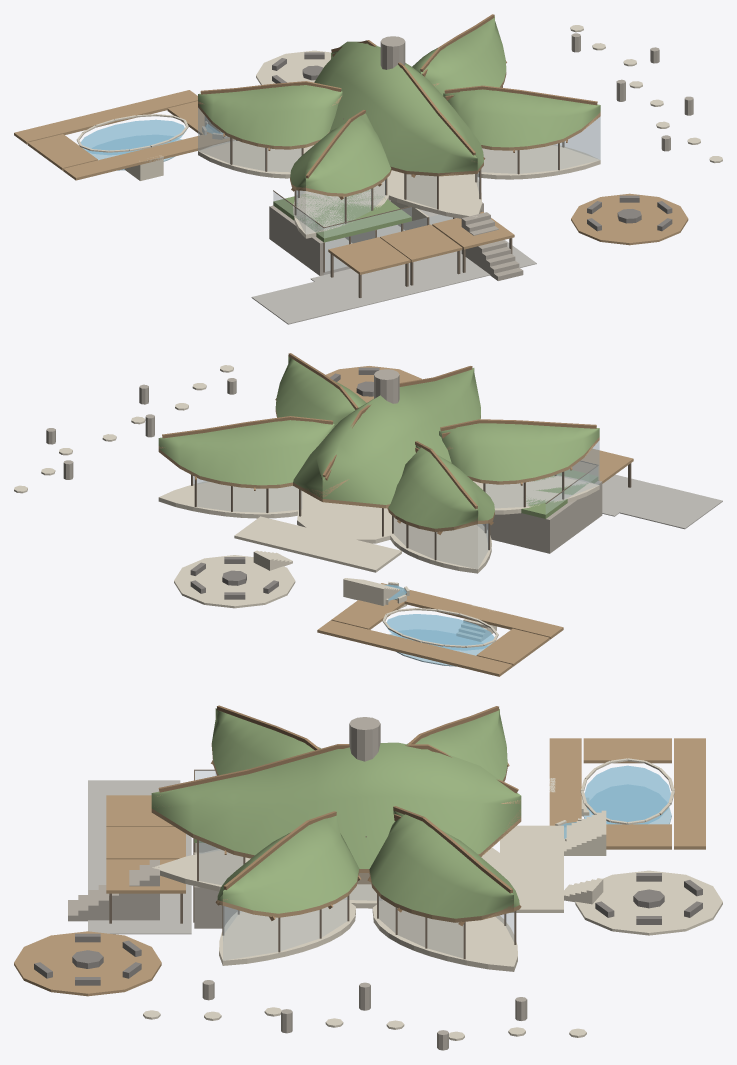
File: oak-leaf-massing.glb
3 views of the same model, one above another, from view 1: azimuth 30°, elevation 25°; view 2: azimuth 150°, elevation 25°; view 3: azimuth 270°, elevation 25° (orthographic). The views are drawn at different scales.
Visible parts, largest first — view 1: living roof, stone, glass, timber deck, concrete, timber, river stone, timber rib, water, bronze, dark stone, pool floor; view 2: living roof, stone, timber deck, glass, river stone, concrete, timber, timber rib, water, dark stone, pool floor, bronze; view 3: living roof, stone, timber deck, glass, timber, river stone, concrete, timber rib, water, dark stone, pool floor, bronze.
Boxes of the visible parts, left/top/right/bottom form: living roof: left=198, top=16, right=600, bottom=242; stone: left=76, top=25, right=722, bottom=243; glass: left=198, top=108, right=600, bottom=271; timber deck: left=14, top=90, right=688, bottom=245; concrete: left=251, top=209, right=536, bottom=324; timber: left=198, top=52, right=600, bottom=274; river stone: left=269, top=33, right=693, bottom=280; timber rib: left=200, top=14, right=597, bottom=199; water: left=80, top=119, right=222, bottom=155; bronze: left=230, top=86, right=564, bottom=297; dark stone: left=272, top=52, right=672, bottom=231; pool floor: left=87, top=135, right=181, bottom=170; living roof: left=158, top=355, right=599, bottom=528; stone: left=14, top=365, right=599, bottom=647; timber deck: left=317, top=366, right=563, bottom=676; glass: left=193, top=440, right=599, bottom=568; river stone: left=46, top=369, right=602, bottom=553; concrete: left=602, top=474, right=722, bottom=529; timber: left=158, top=409, right=633, bottom=531; timber rib: left=162, top=353, right=596, bottom=534; water: left=384, top=584, right=494, bottom=650; dark stone: left=190, top=367, right=379, bottom=599; pool floor: left=389, top=629, right=487, bottom=666; bronze: left=191, top=460, right=631, bottom=560; living roof: left=151, top=708, right=521, bottom=918; stone: left=143, top=758, right=722, bottom=1040; timber deck: left=14, top=738, right=705, bottom=996; glass: left=195, top=771, right=513, bottom=960; timber: left=106, top=743, right=521, bottom=922; river stone: left=68, top=717, right=527, bottom=1050; concrete: left=88, top=780, right=191, bottom=934; timber rib: left=158, top=705, right=521, bottom=926; water: left=561, top=765, right=670, bottom=838; dark stone: left=34, top=873, right=702, bottom=985; pool floor: left=583, top=784, right=671, bottom=824; bronze: left=109, top=769, right=516, bottom=959.
Size of the model in its own units: 55.45 by 14.8 by 49.9.
